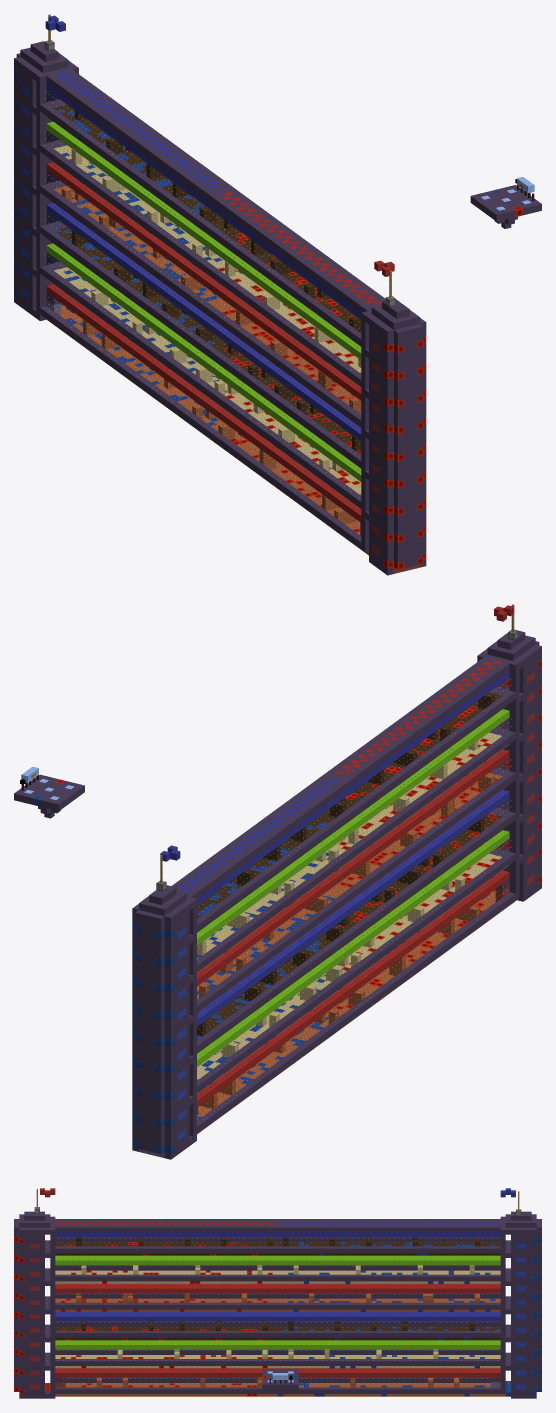
The model's file is minecraft.obj.
The picture shows the model from 3 angles, top to bottom: view 1: azimuth 30°, elevation 25°; view 2: azimuth 150°, elevation 25°; view 3: azimuth 270°, elevation 25°; orthographic projection. The views are drawn at different scales.
Bounding box in the file's own units: 510 × 430 × 1020.
